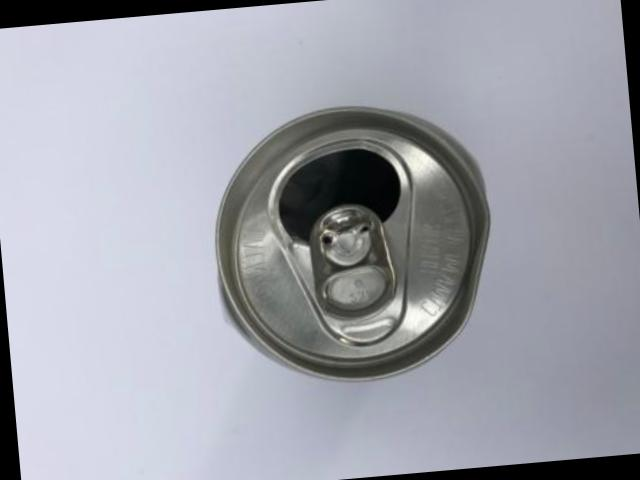metal: (214, 109, 486, 381)
